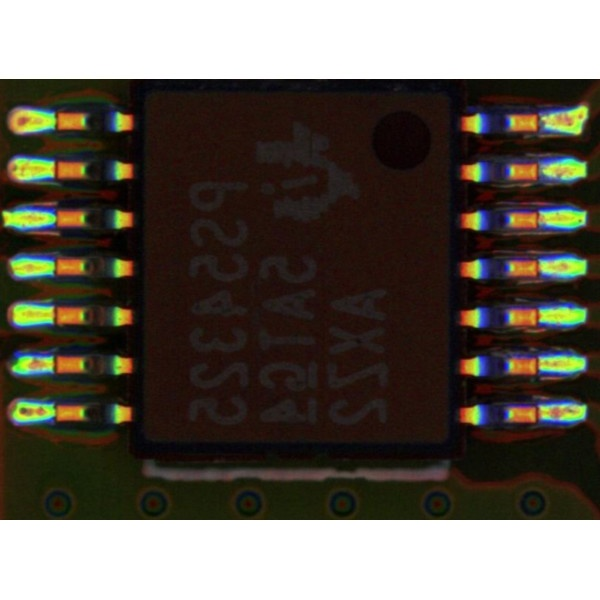Bad_podu: (34, 310, 69, 320), (524, 361, 558, 370), (527, 408, 554, 417)
